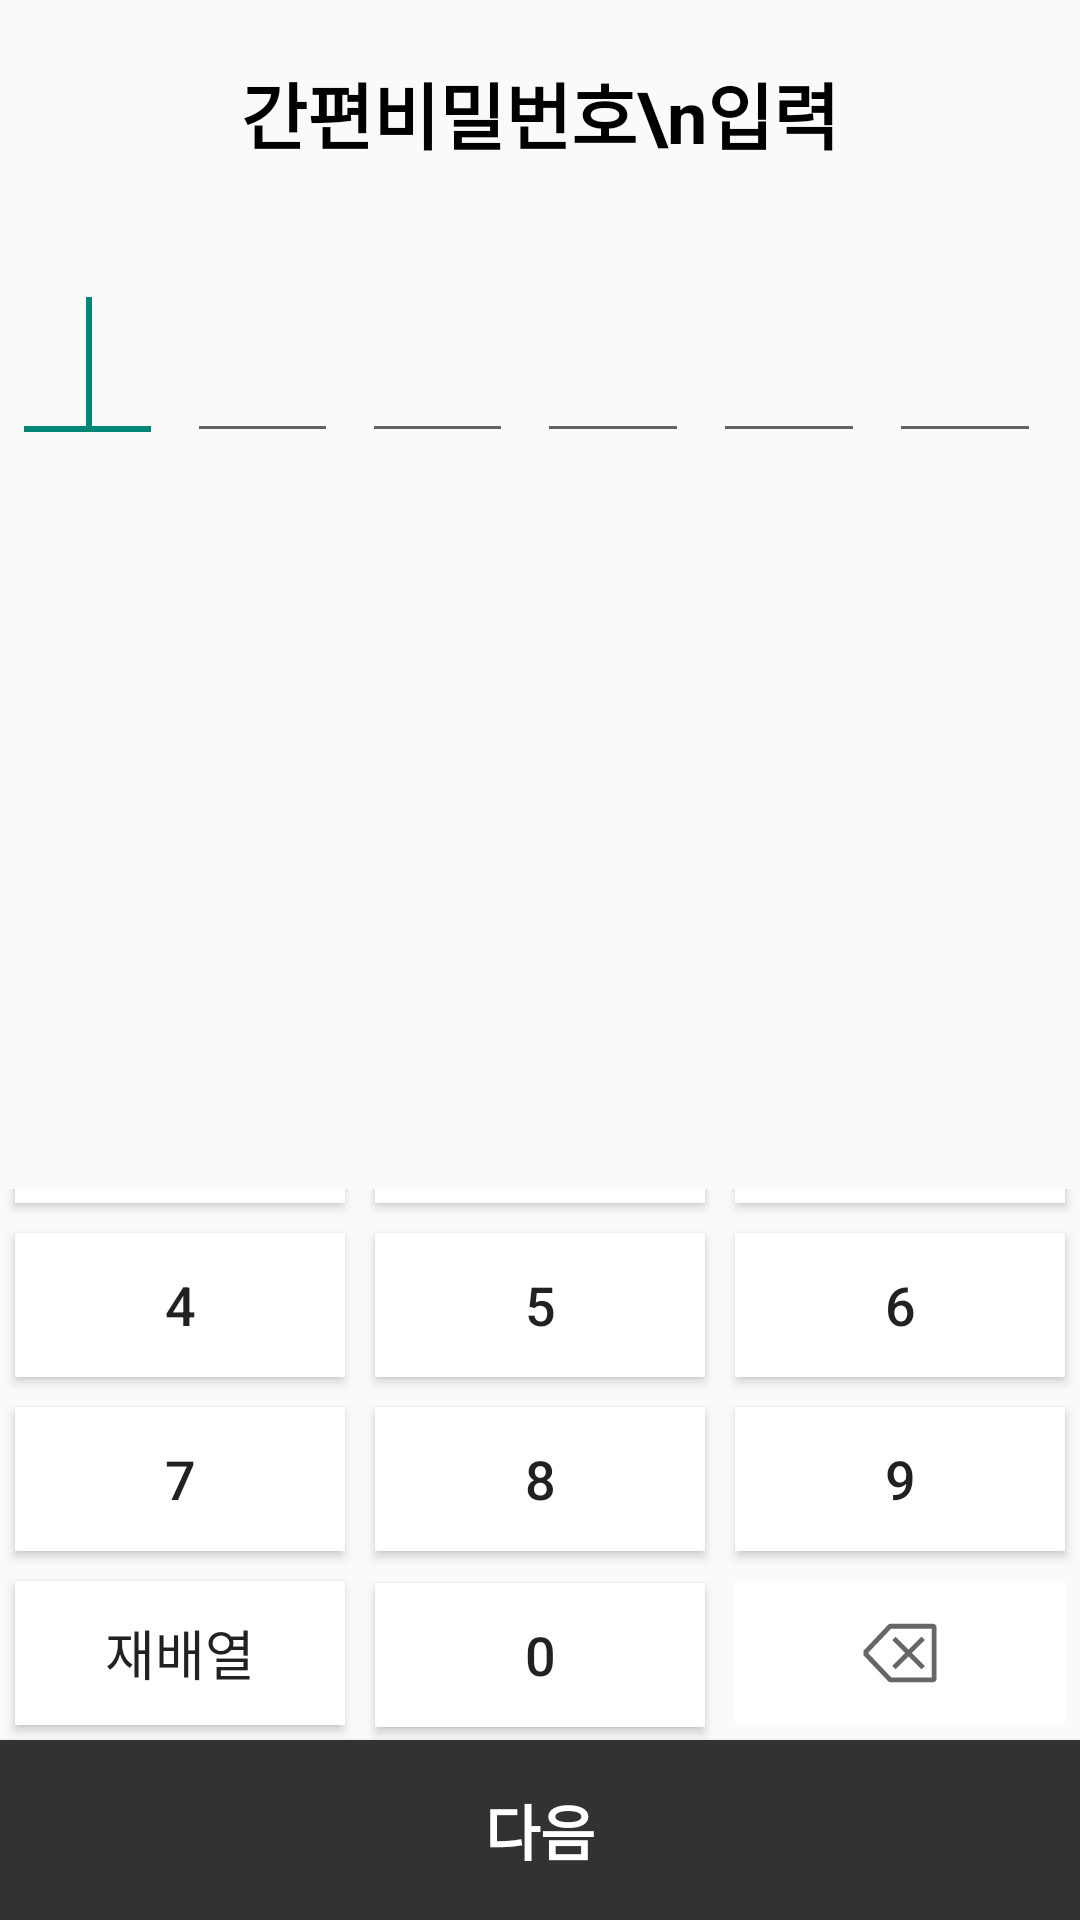

Icon click points for this 1080×1920 phone screenshot, format (x=x, y=y):
cil delete: (x=900, y=1653)
